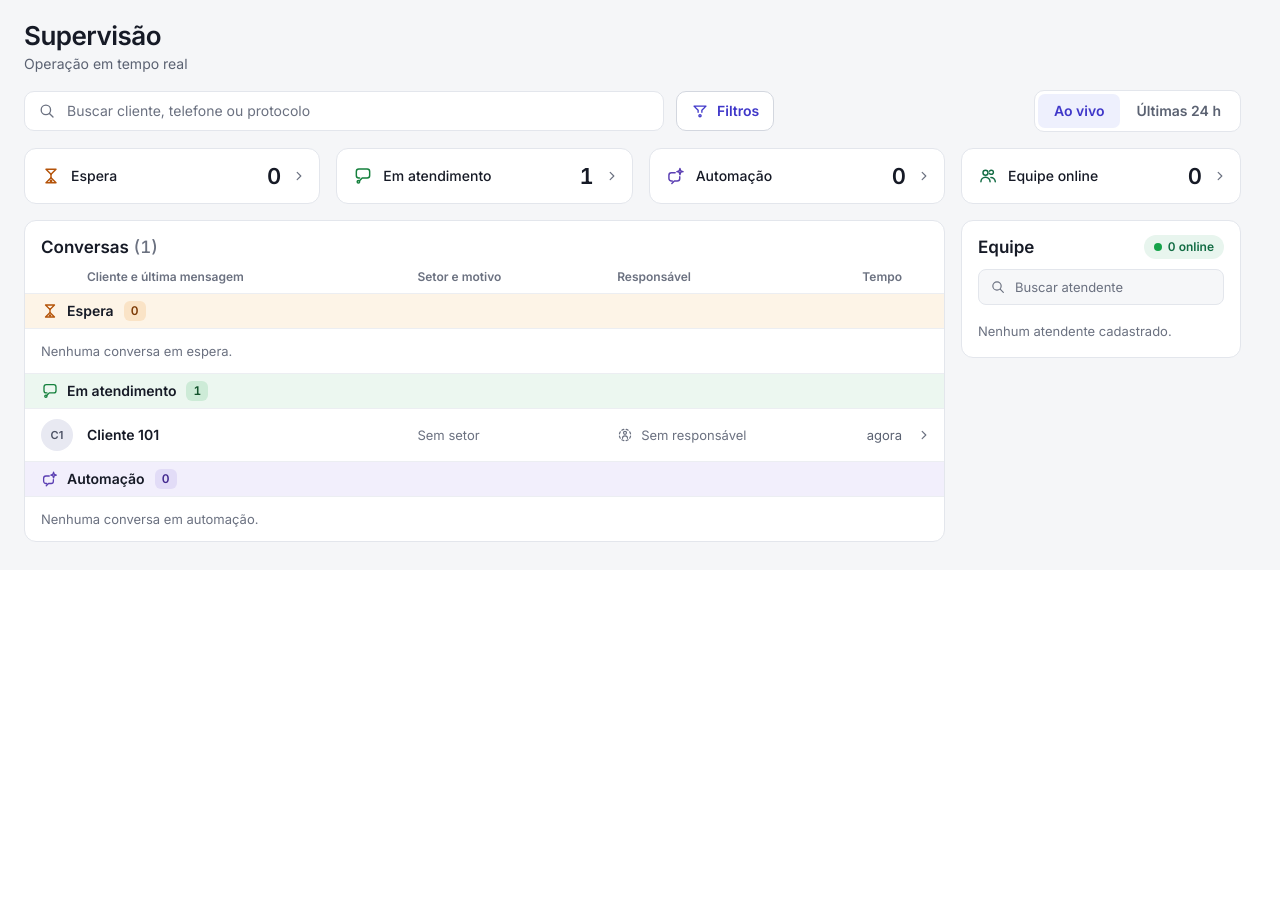
Supervisão: a transferência não baixou › o popup continua aberto e a página avisa
Click the button "C1 Cliente 101 Sem setor Sem responsável agora": (57, 435) [25, 409, 944, 461]
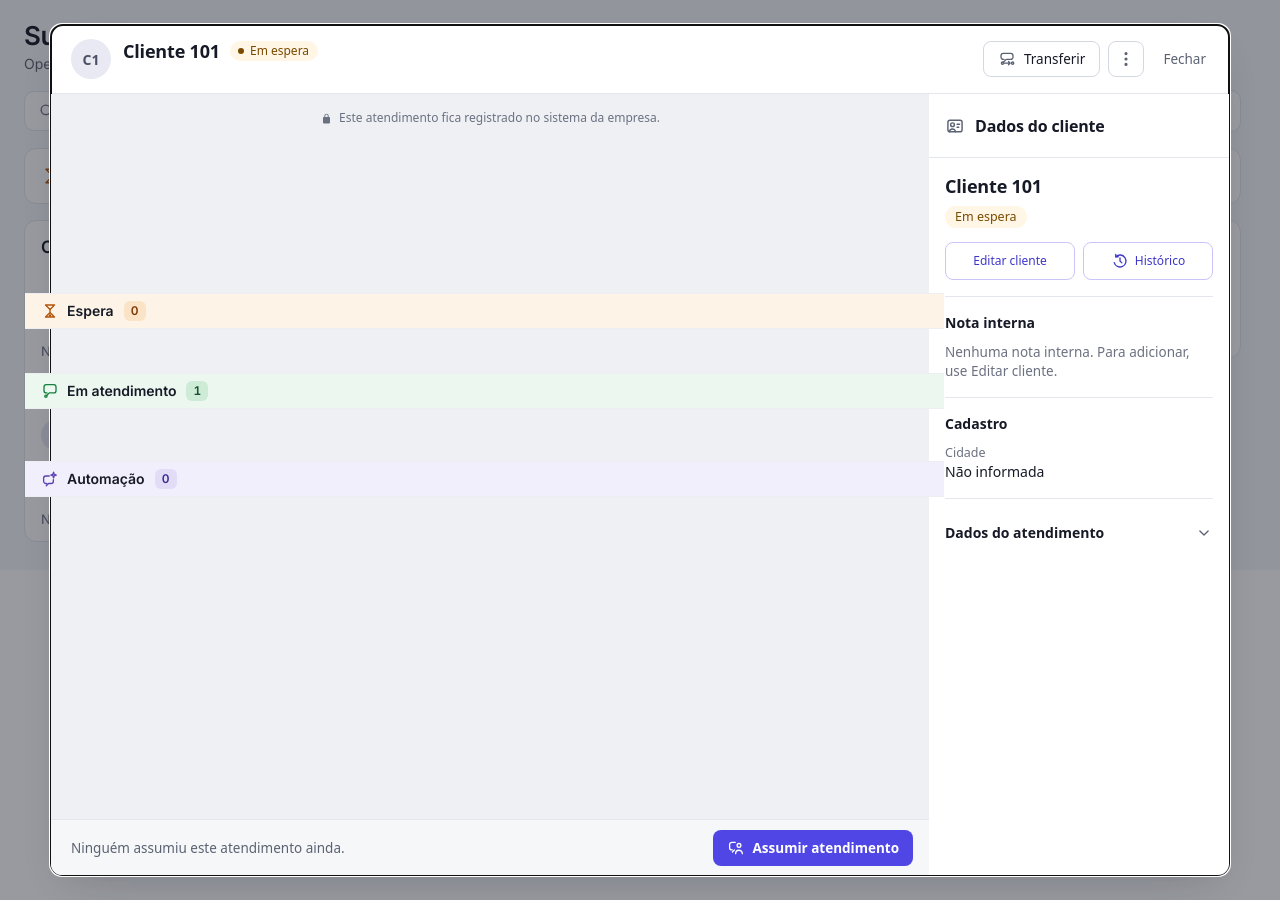
expect the dialog named "Conversa com" is shown: met
Click the button with aria-label "transferir atendimento": (1042, 59) [983, 41, 1100, 77]
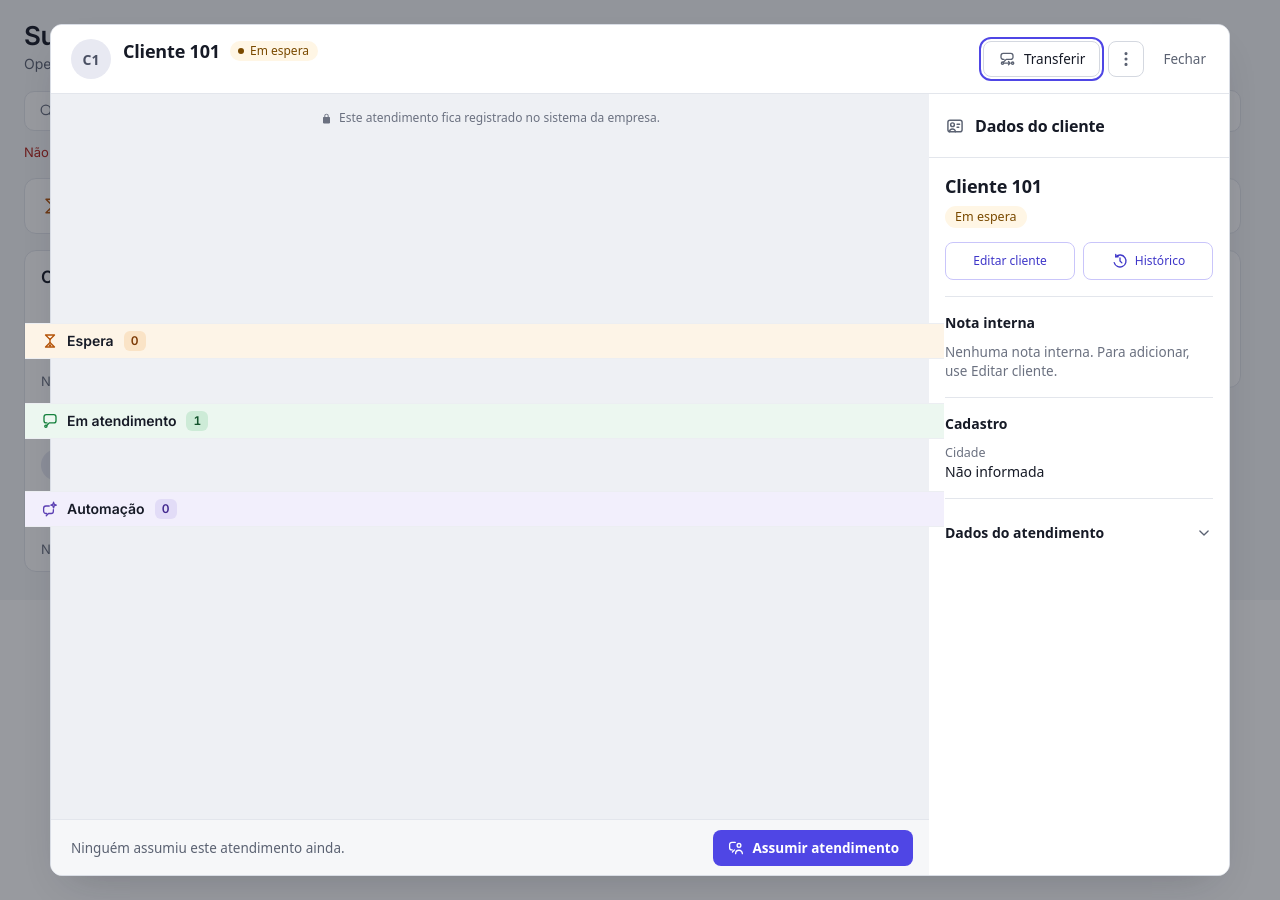
expect the dialog named "Conversa com" is shown: met
expect the message reads "Não foi possível abrir a transferência. Verifique a conexão e tente de novo.": met, box [24, 144, 482, 160]
